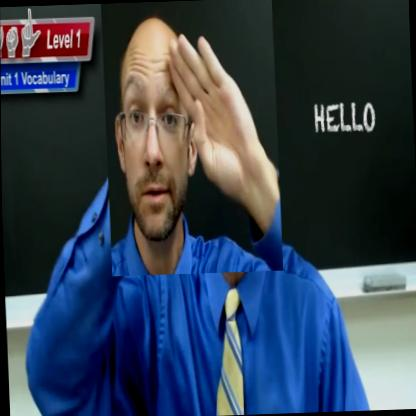Hello: (101, 0, 283, 276)
